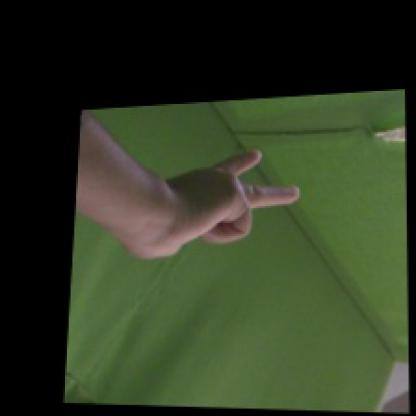Hand: (125, 149, 302, 261)
